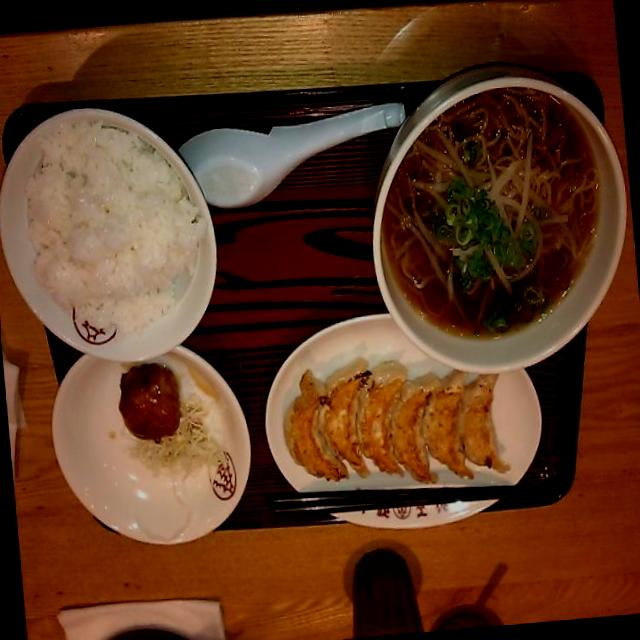Rice: (18, 120, 206, 344)
